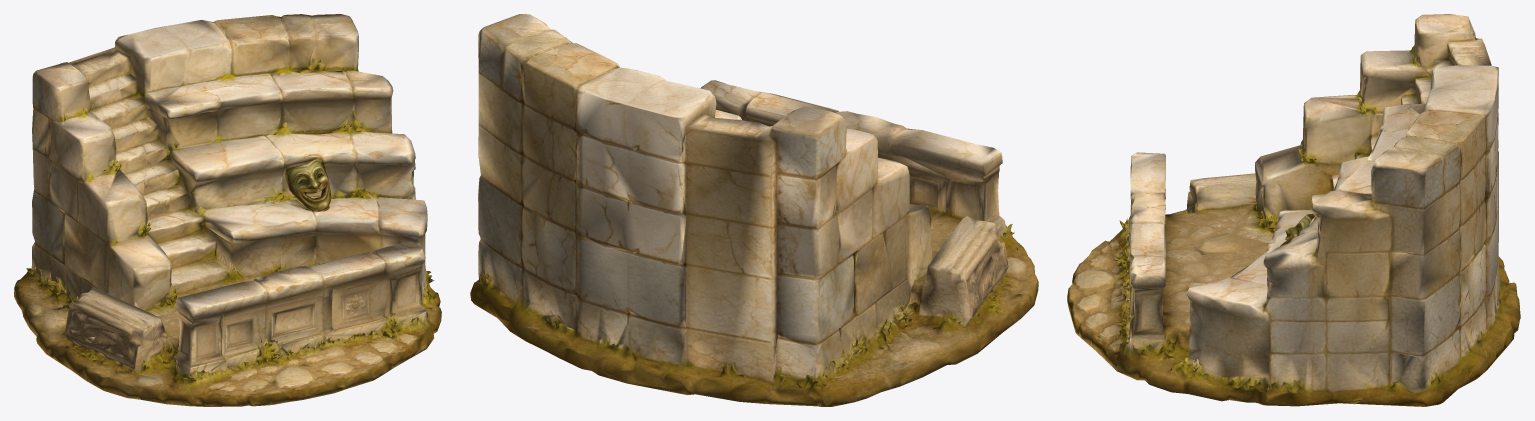
File: city_izmir_theatre_seats.glb
The picture shows the model from 3 angles, left to right: view 1: azimuth 30°, elevation 25°; view 2: azimuth 150°, elevation 25°; view 3: azimuth 270°, elevation 25°; orthographic projection. The views are drawn at different scales.
Parts seen in each view (by area): view 1: Mesh1.0; view 2: Mesh1.0; view 3: Mesh1.0.
Boxes of the visible parts, x1,y1,x2,y2 form: Mesh1.0: (14, 14, 441, 406); Mesh1.0: (470, 14, 1038, 406); Mesh1.0: (1067, 14, 1520, 406).
Bounding box in the file's own units: 4.17 × 2.4 × 4.2.
Materials: 1 (1 with a texture image).
